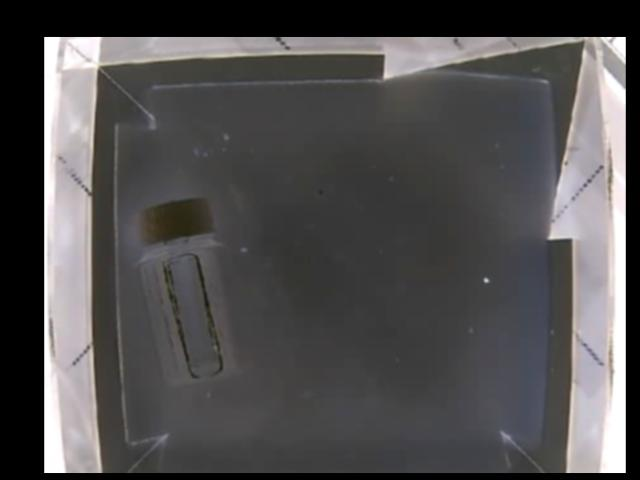Bottle: (132, 196, 254, 382)
